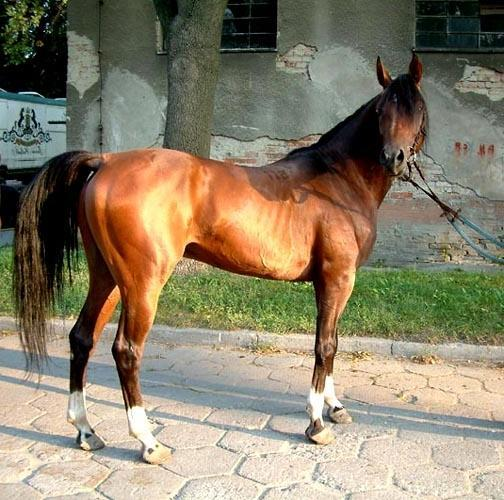horse: (10, 48, 429, 465)
